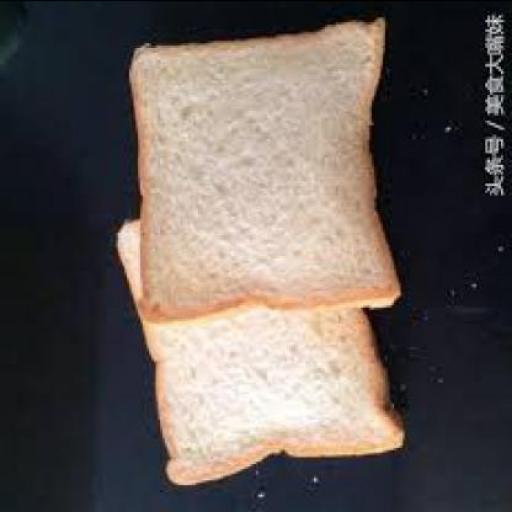biodegradable: (125, 18, 398, 322), (113, 223, 399, 486)
